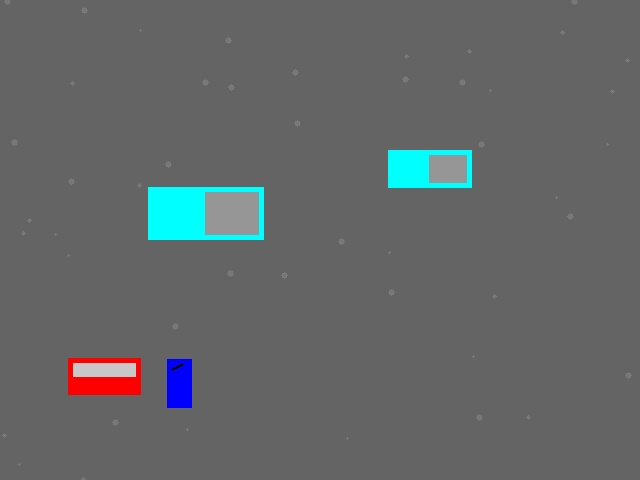car: (68, 358, 140, 394)
motorcycle: (167, 359, 191, 407)
truck: (148, 187, 263, 239), (388, 150, 471, 187)
